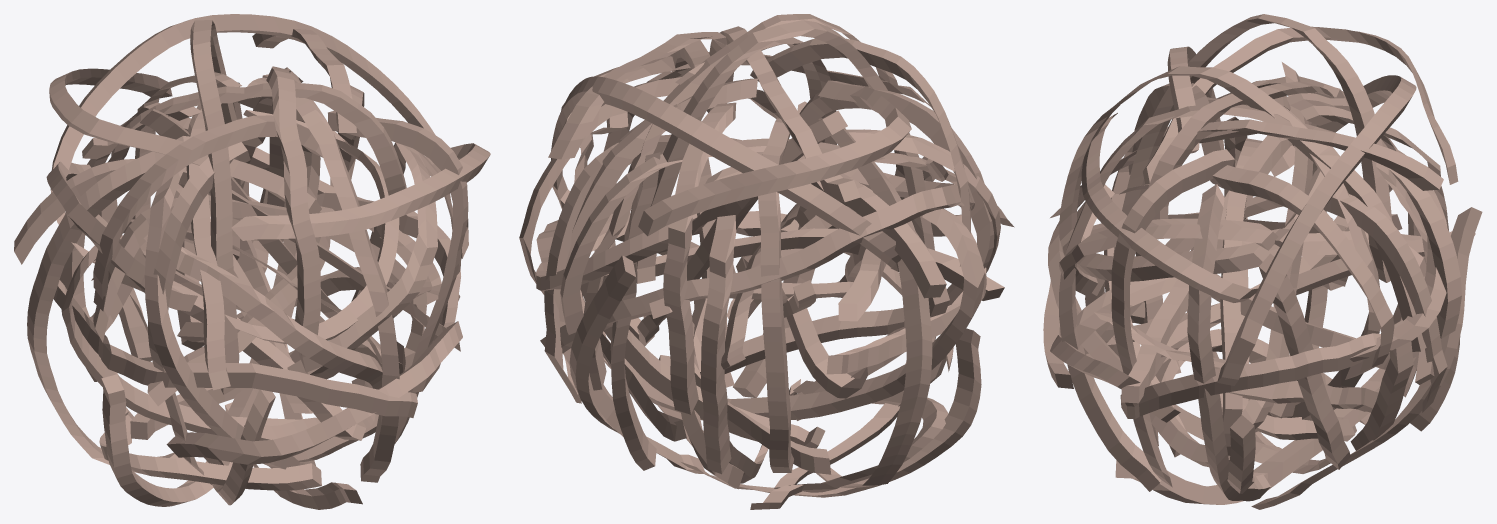
Rendered from tumbleweedModel.fbx.
The picture shows the model from 3 angles, left to right: view 1: azimuth 30°, elevation 25°; view 2: azimuth 150°, elevation 25°; view 3: azimuth 270°, elevation 25°; orthographic projection. The views are drawn at different scales.
Parts seen in each view (by area): view 1: mesh_857252206; view 2: mesh_857252206; view 3: mesh_857252206.
Boxes of the visible parts, x1,y1,x2,y2 form: mesh_857252206: [14, 14, 490, 509]; mesh_857252206: [519, 14, 1014, 509]; mesh_857252206: [1043, 14, 1482, 509].
Bounding box in the file's own units: 132 × 140 × 123.
